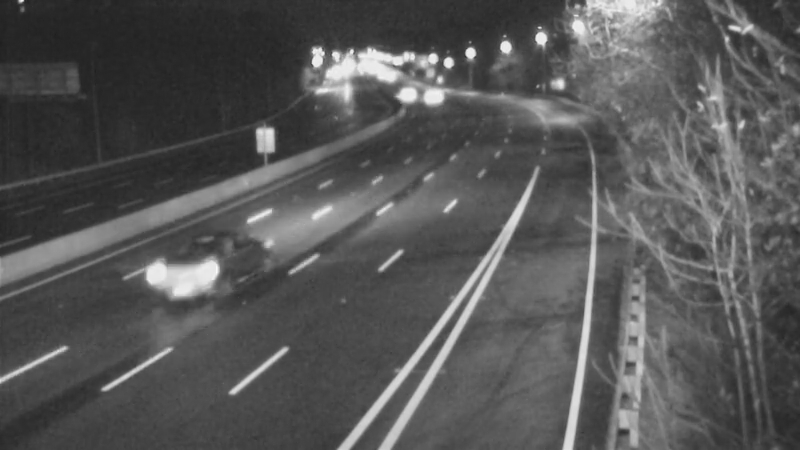vehicle: (162, 239, 242, 319), (406, 65, 456, 115), (378, 70, 428, 120)
